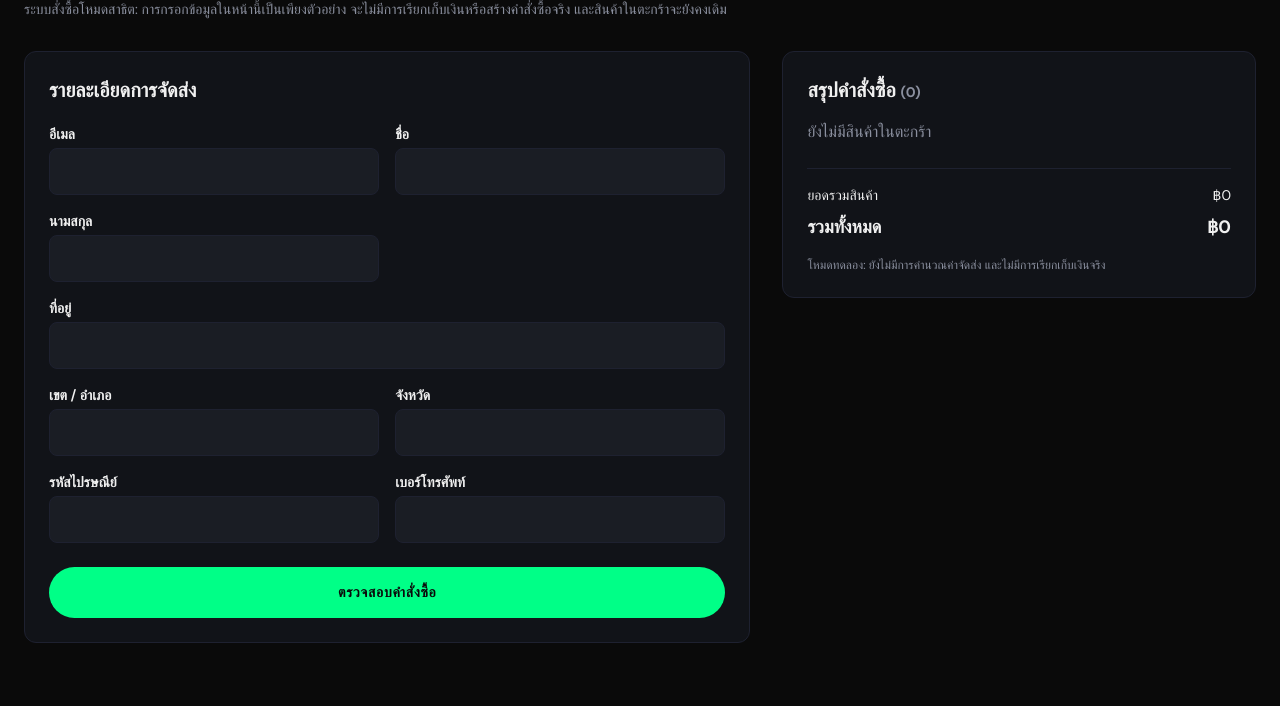
Scenario: renders Thai delivery labels and validation guidance when Thai is selected
The width and height of the screenshot is (1280, 706).
(page scrolled)
Click the button "ตรวจสอบคำสั่งซื้อ". click: (387, 592)
box: top-left (49, 567), bottom-right (725, 618)
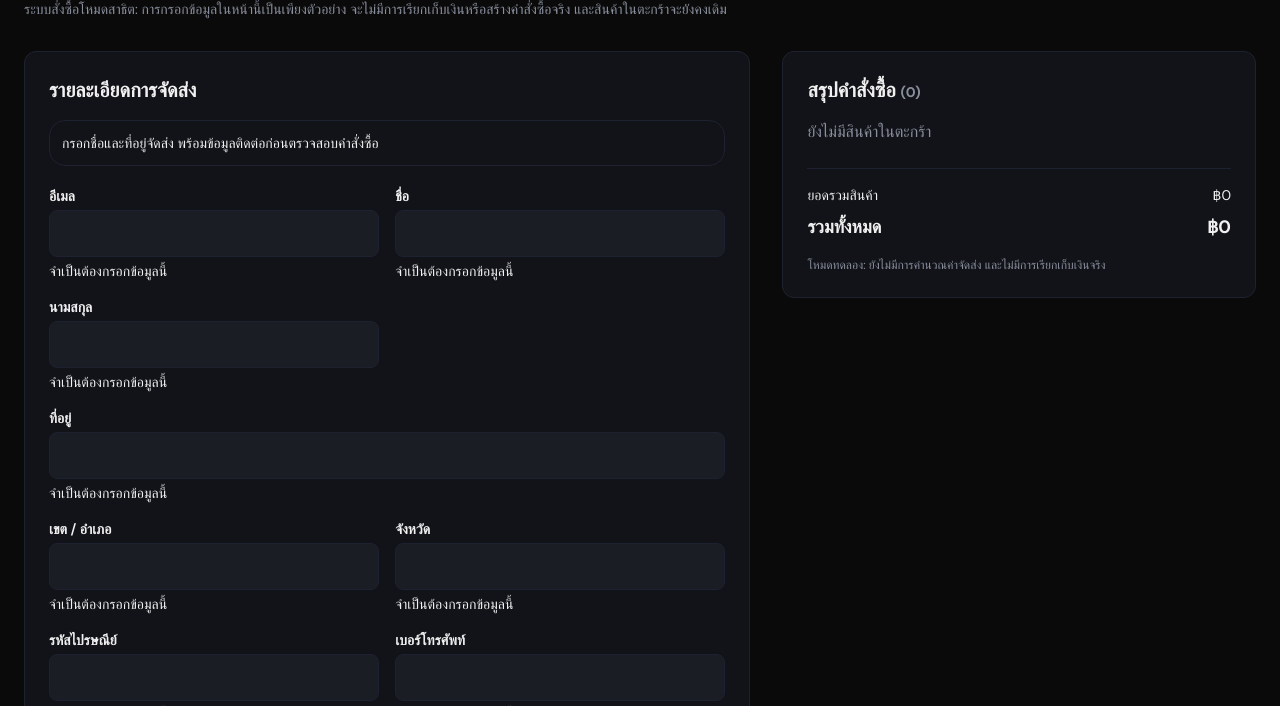
Expected: the text "กรอกชื่อและที่อยู่จัดส่ง พร้อมข้อมูลติดต่อก่อนตรวจสอบคำสั่งซื้อ" is shown, top-left (62, 134), bottom-right (379, 152)
